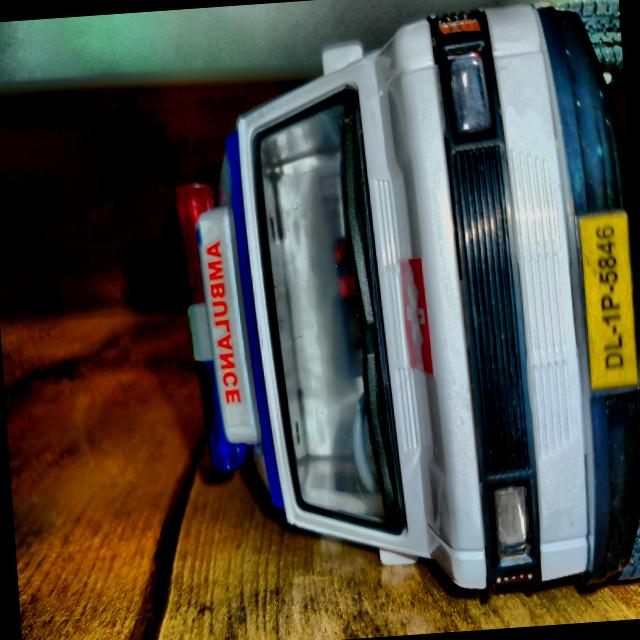Ambulance: (175, 0, 640, 612)
